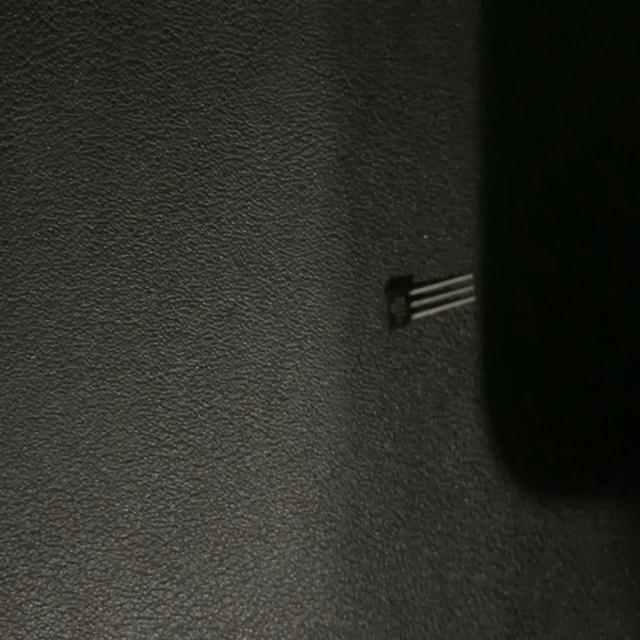BJT: (378, 268, 481, 339)
